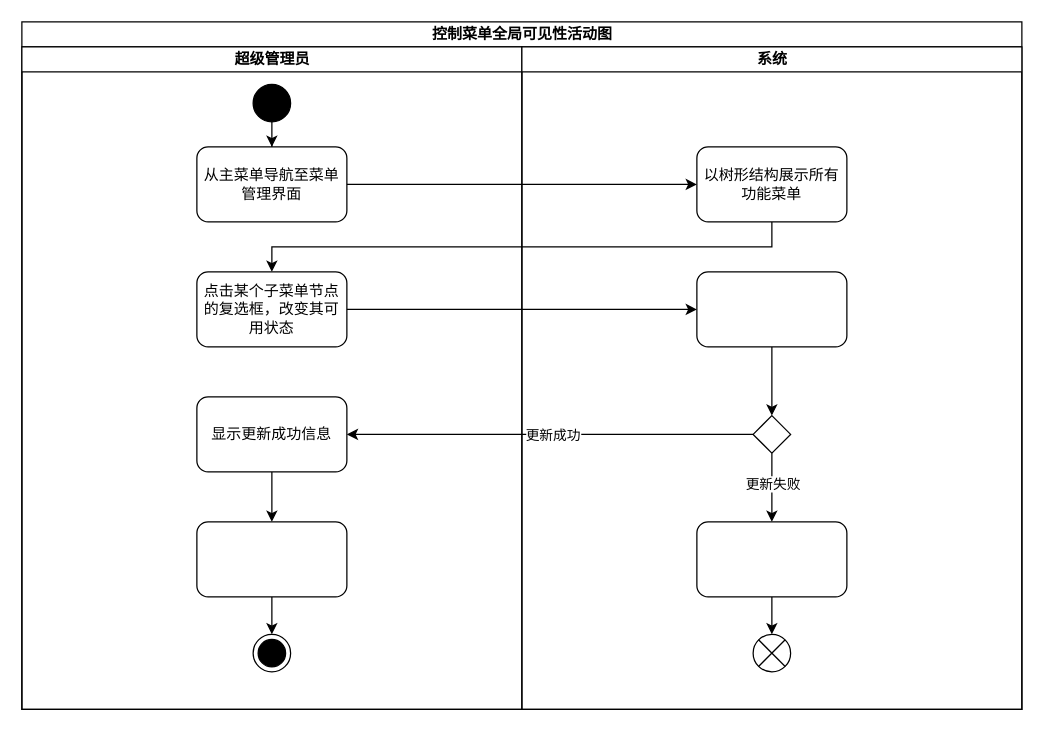
Image size: 1044x731. Some labels were removed from this diagram. The centre of each missing label's shape, as x and y in pixels:
刷新页面重新显示: pixel 271 559
向后台发送请求，更新菜单表对应记录的is_global_visible字段: pixel 771 309
显示更新失败请重试: pixel 771 559
